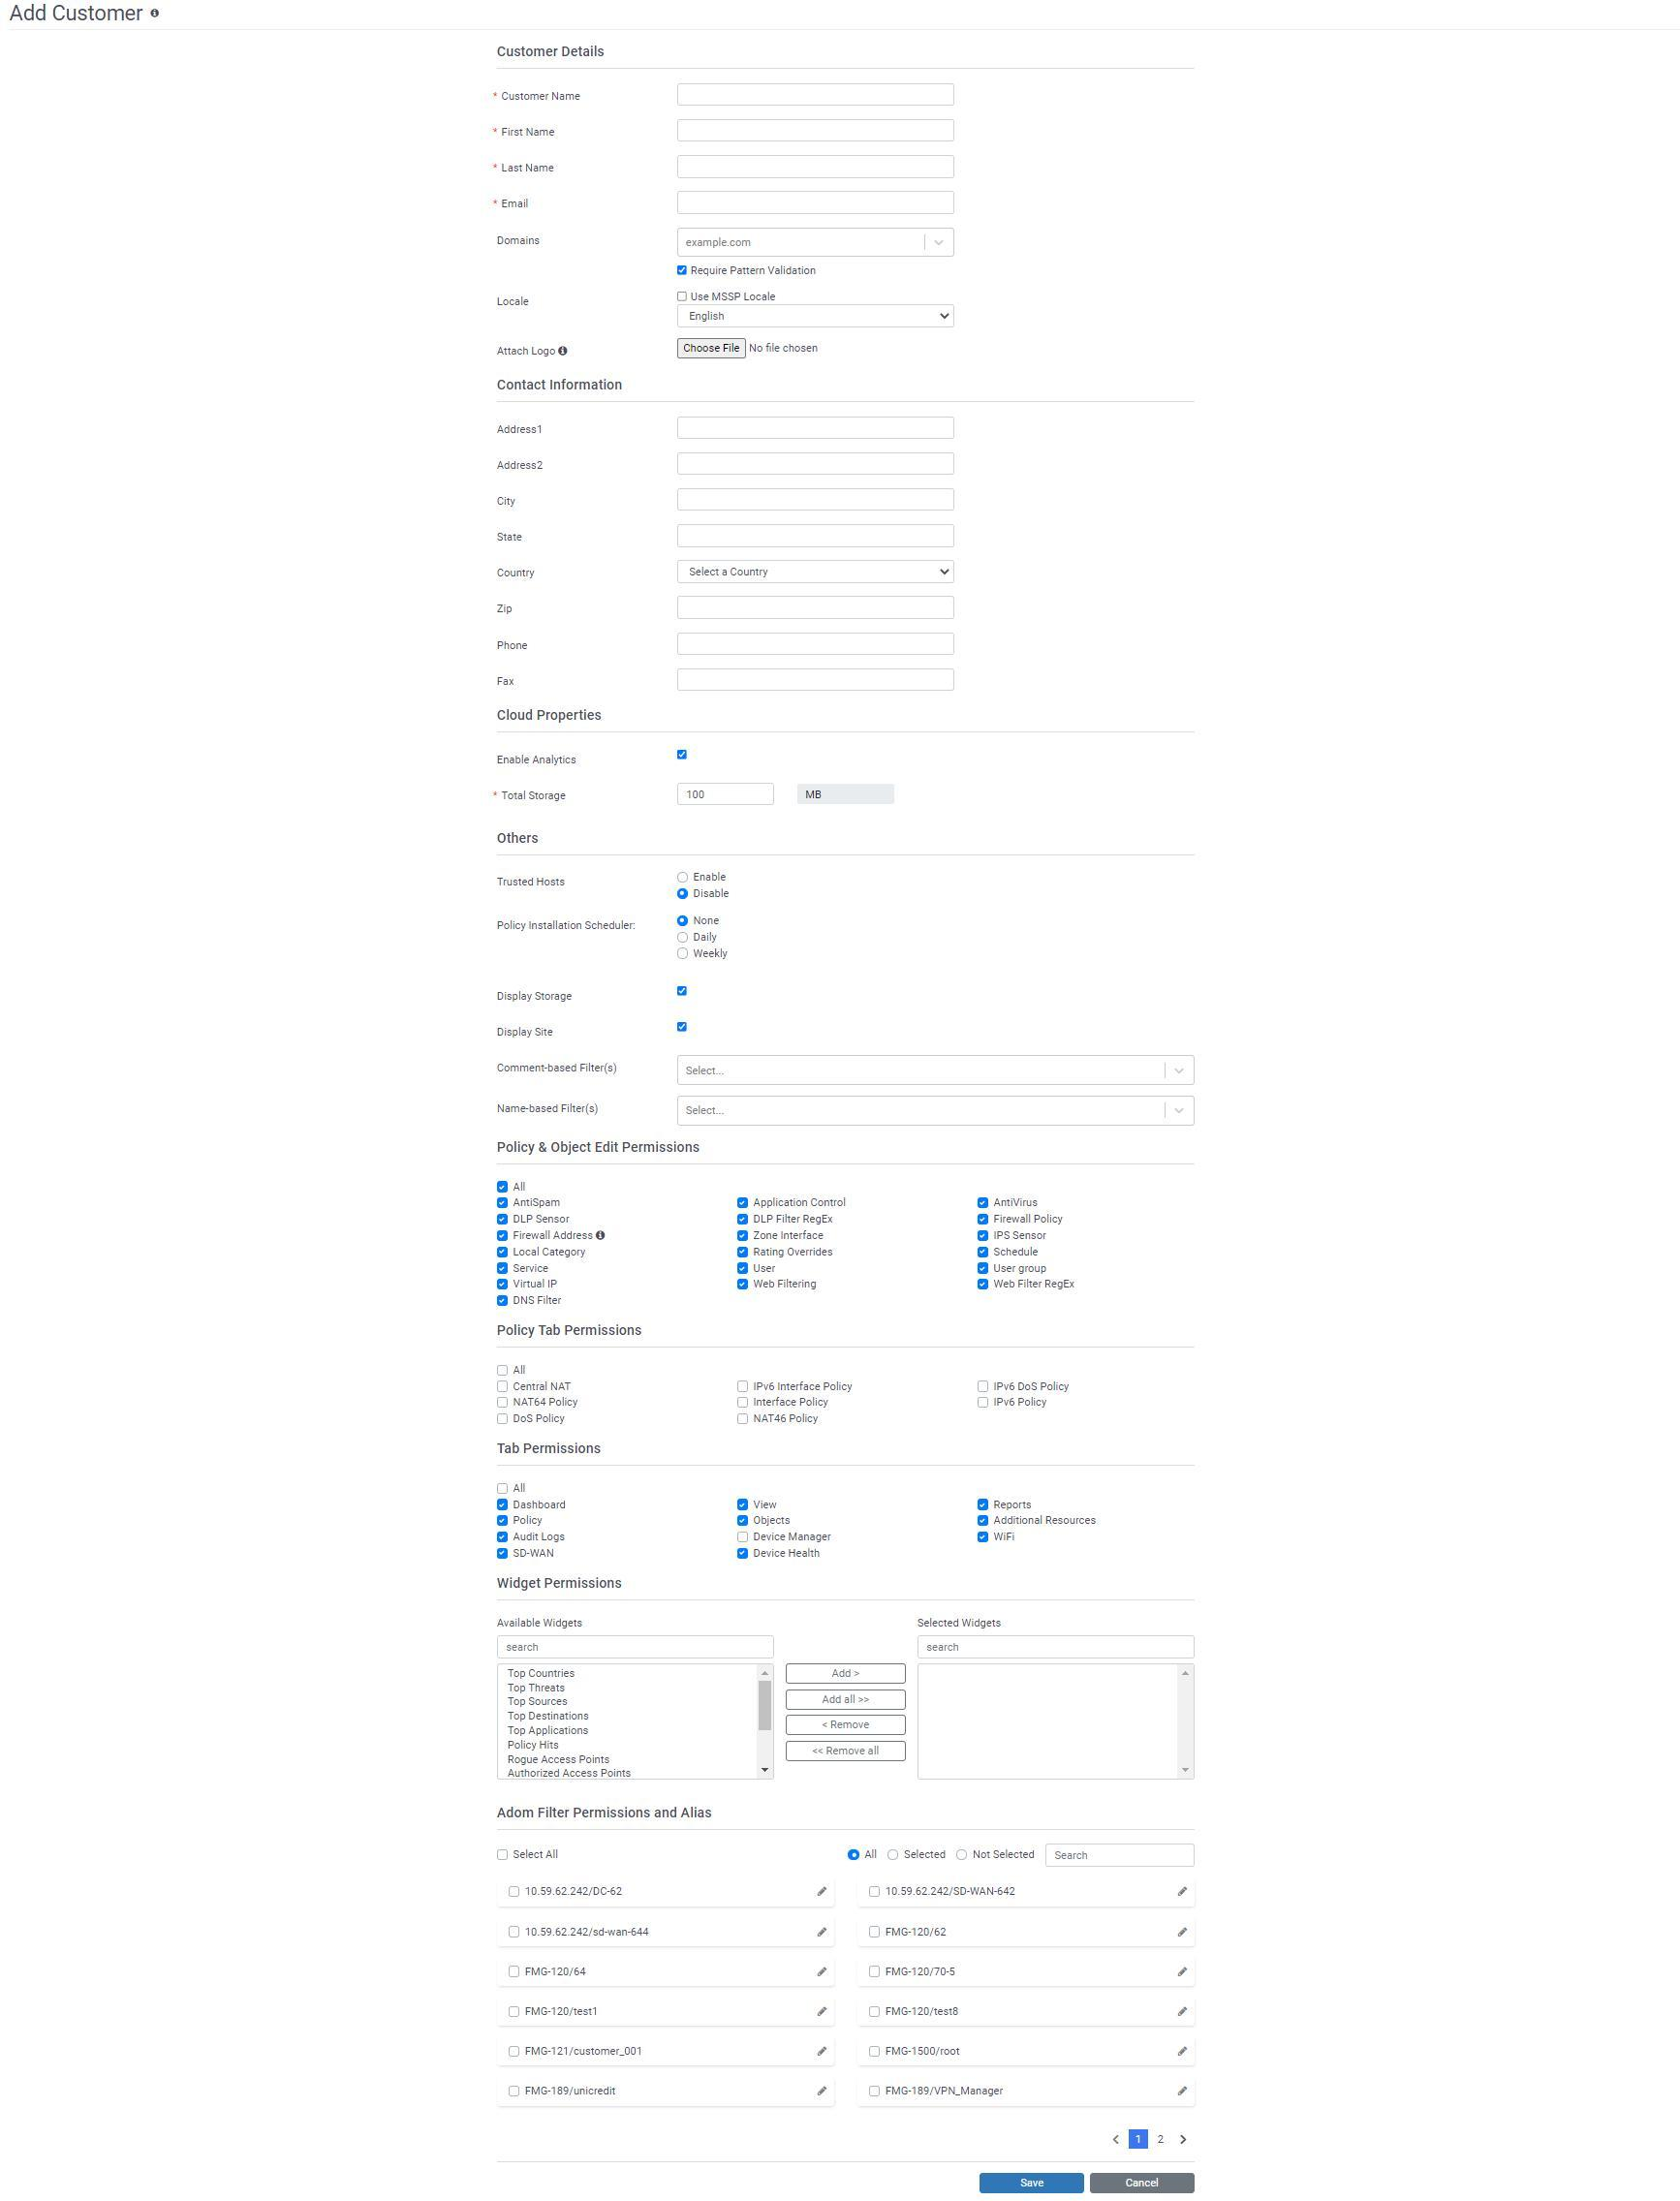button: (789, 1663, 907, 1684), (787, 1716, 905, 1737), (787, 1691, 905, 1709), (789, 1744, 907, 1762), (981, 2175, 1085, 2194), (1092, 2175, 1195, 2194), (679, 339, 746, 358)
checkbox: (508, 2085, 522, 2100), (868, 1924, 882, 1940), (866, 1885, 882, 1899), (868, 2046, 882, 2060), (736, 1247, 750, 1261), (508, 1885, 521, 1899), (508, 1926, 521, 1940), (508, 2005, 521, 2019), (508, 2046, 521, 2060), (868, 2086, 882, 2099), (868, 2007, 882, 2019), (868, 1966, 882, 1979), (498, 1481, 510, 1496), (498, 1515, 510, 1529), (736, 1229, 750, 1242), (508, 1966, 521, 1979), (498, 1499, 510, 1511), (738, 1499, 750, 1511), (738, 1531, 750, 1543), (738, 1548, 750, 1561), (978, 1499, 990, 1511), (978, 1515, 990, 1527), (498, 1365, 510, 1377), (498, 1381, 510, 1393), (738, 1413, 750, 1425), (978, 1247, 990, 1259), (738, 1213, 750, 1226), (738, 1197, 750, 1210), (498, 1263, 510, 1275), (498, 1247, 510, 1259), (498, 1531, 508, 1545), (979, 1197, 990, 1212), (498, 1850, 508, 1862), (498, 1548, 510, 1559), (738, 1517, 750, 1527), (979, 1531, 990, 1543), (738, 1399, 750, 1409), (738, 1381, 748, 1393), (979, 1381, 990, 1393), (979, 1263, 990, 1275), (978, 1231, 990, 1242), (979, 1213, 990, 1226), (738, 1263, 748, 1275), (498, 1296, 508, 1309), (498, 1213, 508, 1226), (498, 1197, 508, 1210), (498, 1182, 508, 1194), (678, 266, 688, 277), (678, 750, 688, 760), (678, 1023, 688, 1033), (498, 1399, 508, 1409), (979, 1399, 990, 1409), (979, 1280, 990, 1291), (738, 1280, 748, 1291), (498, 1280, 508, 1291), (498, 1231, 508, 1242), (498, 1414, 510, 1423), (678, 293, 688, 302), (678, 988, 688, 996)
dropdown: (678, 1055, 1195, 1085), (678, 1097, 1195, 1125), (679, 229, 953, 257), (679, 563, 955, 586), (679, 307, 955, 326)
icon: (812, 1880, 829, 1901), (817, 1922, 831, 1940), (1177, 2083, 1191, 2100), (817, 2003, 831, 2019), (1175, 1924, 1189, 1940), (1181, 2132, 1193, 2146), (817, 2046, 829, 2060), (1177, 2044, 1189, 2058), (1112, 2130, 1122, 2146), (1179, 1884, 1189, 1899), (817, 2086, 828, 2100), (817, 1968, 828, 1981), (1179, 1966, 1188, 1979), (1177, 2007, 1188, 2016)
input: (678, 155, 955, 180), (678, 489, 955, 513), (678, 416, 953, 441), (678, 631, 953, 656), (679, 190, 953, 215), (918, 1637, 1196, 1660), (678, 120, 955, 143), (678, 451, 955, 474), (676, 526, 953, 548), (498, 1637, 775, 1660), (678, 596, 953, 619), (678, 83, 956, 104), (678, 670, 956, 690), (1045, 1843, 1196, 1869), (678, 783, 775, 806)
label: (496, 1806, 716, 1822), (498, 1139, 702, 1155), (496, 1321, 648, 1342), (494, 915, 639, 935), (494, 704, 607, 727), (496, 1577, 625, 1596), (496, 44, 607, 63), (496, 1099, 604, 1118), (524, 2046, 646, 2062), (888, 1887, 1020, 1901), (526, 2081, 618, 2100), (694, 265, 819, 279), (888, 2086, 1004, 2100), (752, 1379, 854, 1395), (494, 1063, 621, 1076), (508, 1767, 635, 1779), (528, 1884, 625, 1899), (498, 755, 584, 772), (499, 340, 570, 362), (494, 871, 574, 889), (492, 989, 579, 1005), (752, 1196, 847, 1210), (498, 1441, 605, 1453), (528, 1928, 651, 1938), (492, 90, 584, 104), (916, 1617, 1006, 1631), (884, 2005, 964, 2021), (489, 160, 559, 178), (690, 291, 778, 305), (496, 788, 568, 804), (498, 381, 626, 390), (506, 1755, 611, 1765), (489, 125, 558, 141), (752, 1213, 836, 1226), (995, 1279, 1078, 1291), (494, 1023, 556, 1039), (752, 1397, 831, 1409), (884, 2048, 962, 2060), (524, 2007, 600, 2019), (498, 1619, 586, 1630), (884, 1926, 949, 1940), (514, 1247, 588, 1259), (752, 1247, 836, 1257), (752, 1534, 836, 1545), (972, 1850, 1036, 1864), (992, 1213, 1064, 1226), (508, 1711, 591, 1721), (512, 1213, 574, 1227), (888, 1966, 958, 1979), (514, 1231, 595, 1242), (508, 1727, 589, 1737), (755, 1231, 824, 1243), (752, 1413, 821, 1425), (510, 1668, 577, 1681), (994, 1381, 1071, 1391), (514, 1397, 579, 1409), (526, 1966, 589, 1979), (492, 293, 536, 310), (514, 1499, 568, 1513), (498, 459, 545, 474), (496, 235, 549, 249), (992, 1518, 1098, 1526), (514, 1381, 572, 1393), (508, 1682, 566, 1695), (992, 1231, 1048, 1243), (512, 1533, 568, 1545), (498, 425, 545, 439), (496, 566, 538, 582), (515, 1848, 561, 1862), (904, 1848, 948, 1862), (496, 638, 535, 654), (510, 1697, 568, 1707), (992, 1247, 1041, 1259), (992, 1399, 1048, 1409), (755, 1550, 822, 1559), (514, 1197, 561, 1210), (515, 1296, 563, 1309), (994, 1197, 1041, 1210), (514, 1414, 568, 1425), (496, 832, 542, 845), (694, 871, 729, 887), (754, 1280, 817, 1289), (506, 1741, 559, 1751), (492, 198, 531, 212), (515, 1548, 558, 1561), (994, 1499, 1034, 1511), (510, 1515, 545, 1529), (496, 494, 519, 513), (492, 533, 528, 545), (695, 949, 729, 961), (514, 1280, 559, 1289), (994, 1266, 1050, 1273), (514, 1263, 551, 1273), (695, 889, 729, 899), (496, 674, 521, 688), (690, 929, 716, 942), (994, 1531, 1016, 1545), (755, 1517, 791, 1526), (754, 1265, 780, 1275), (755, 1499, 782, 1510), (865, 1847, 881, 1864), (695, 915, 720, 926), (494, 603, 512, 617), (514, 1182, 528, 1194), (514, 1365, 528, 1377), (514, 1481, 528, 1494)
radio: (845, 1848, 861, 1864), (886, 1848, 902, 1862), (955, 1848, 971, 1862), (678, 871, 690, 885), (676, 915, 690, 928), (676, 931, 688, 945), (678, 947, 690, 961), (678, 889, 690, 901)
